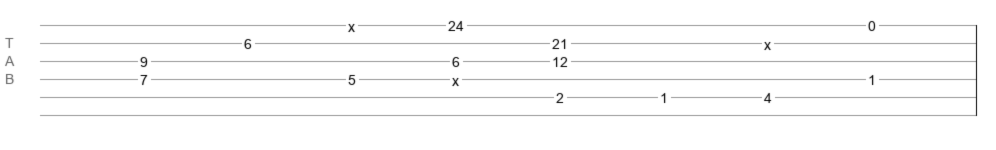0: (868, 18, 876, 28)
1: (660, 90, 668, 100), (868, 72, 876, 82)
12: (552, 54, 568, 64)
2: (556, 90, 564, 100)
21: (552, 36, 568, 46)
24: (448, 18, 464, 28)
4: (764, 90, 772, 100)
5: (348, 72, 356, 82)
6: (244, 36, 252, 46), (452, 54, 460, 64)
7: (140, 72, 148, 82)
9: (140, 54, 148, 64)
x: (348, 19, 355, 27), (452, 73, 459, 81), (764, 37, 771, 45)
